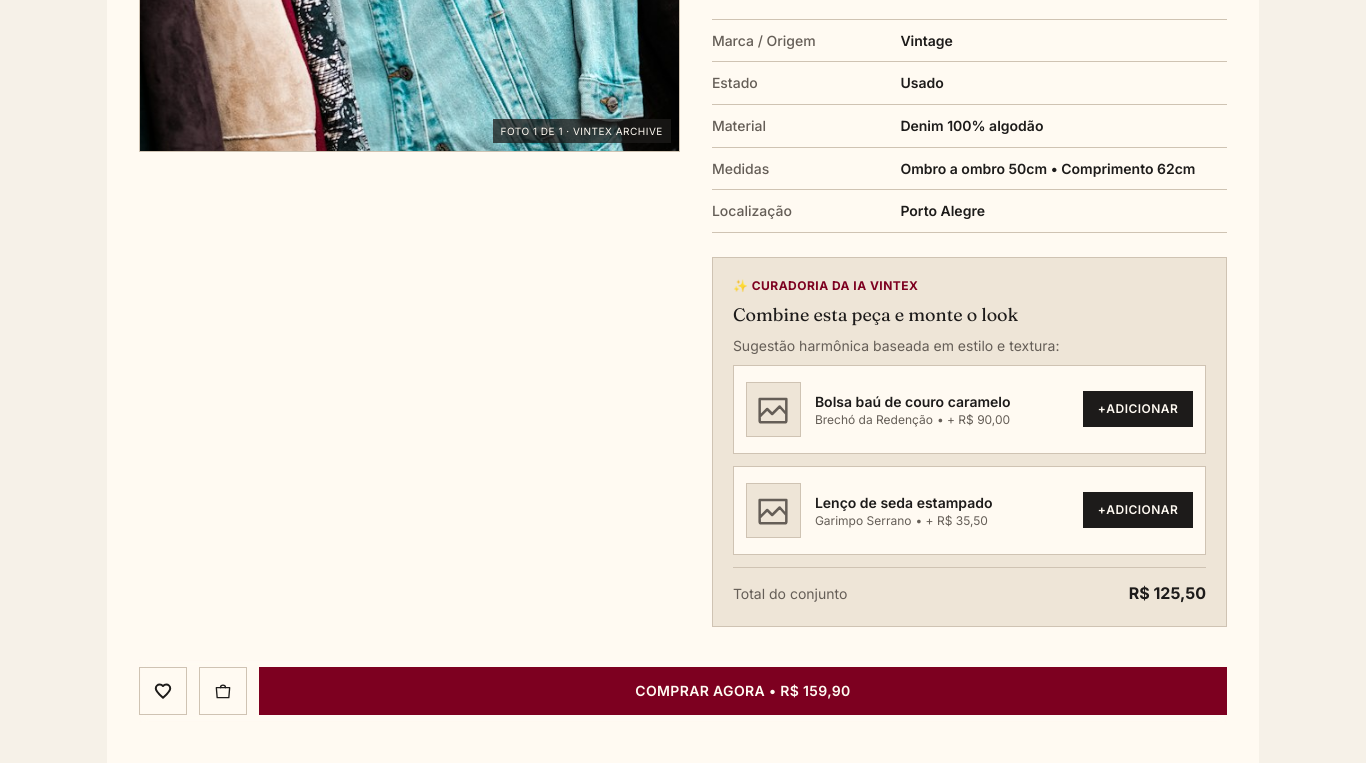
Scenario: <ProductDetail /> › Combine e monte o look (FE-US030-1, #412) › deslogado: "Agora não" cancela e o login depois não adiciona nada
(page scrolled)
Click the button named "Adicionar Bolsa baú de couro caramelo à sacola": (1138, 410) 1083,392 -> 1193,428
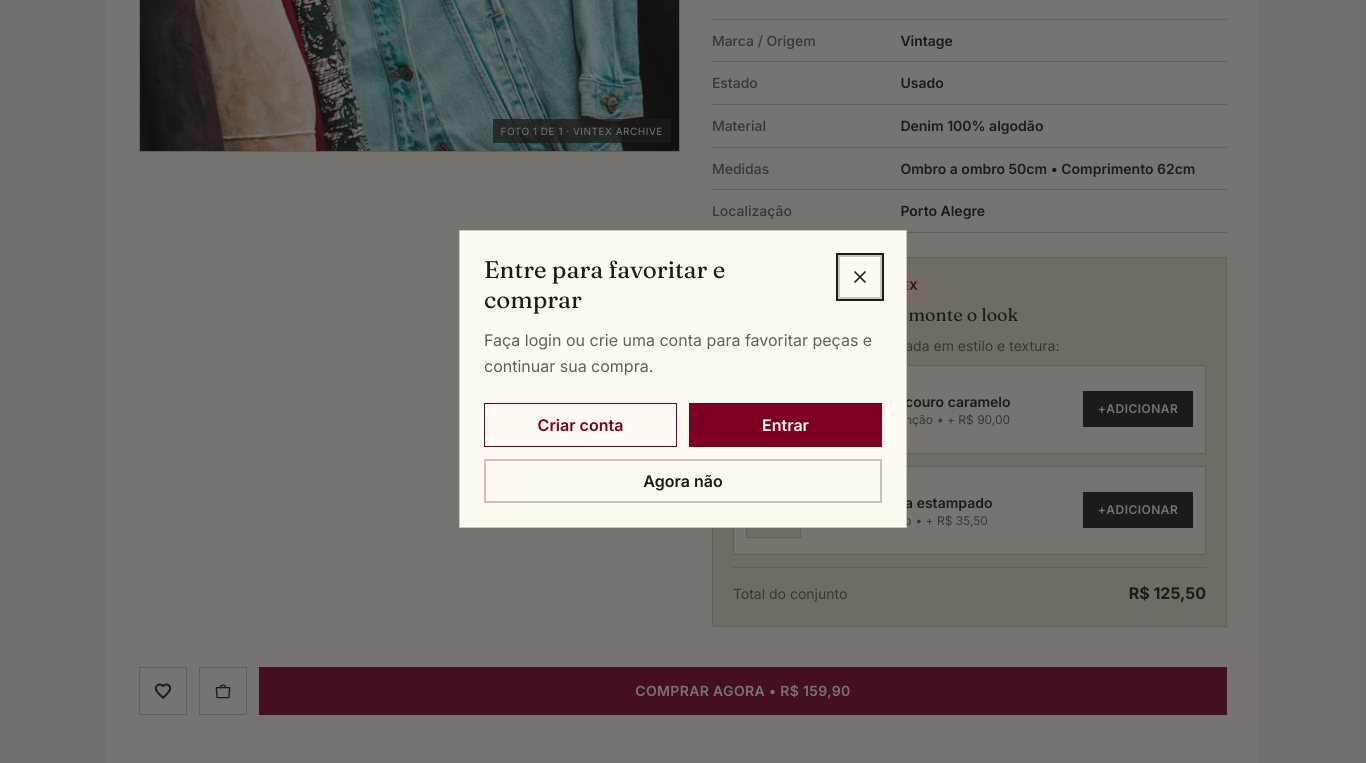
Click the button "Agora não": (683, 481) 484,459 -> 882,503
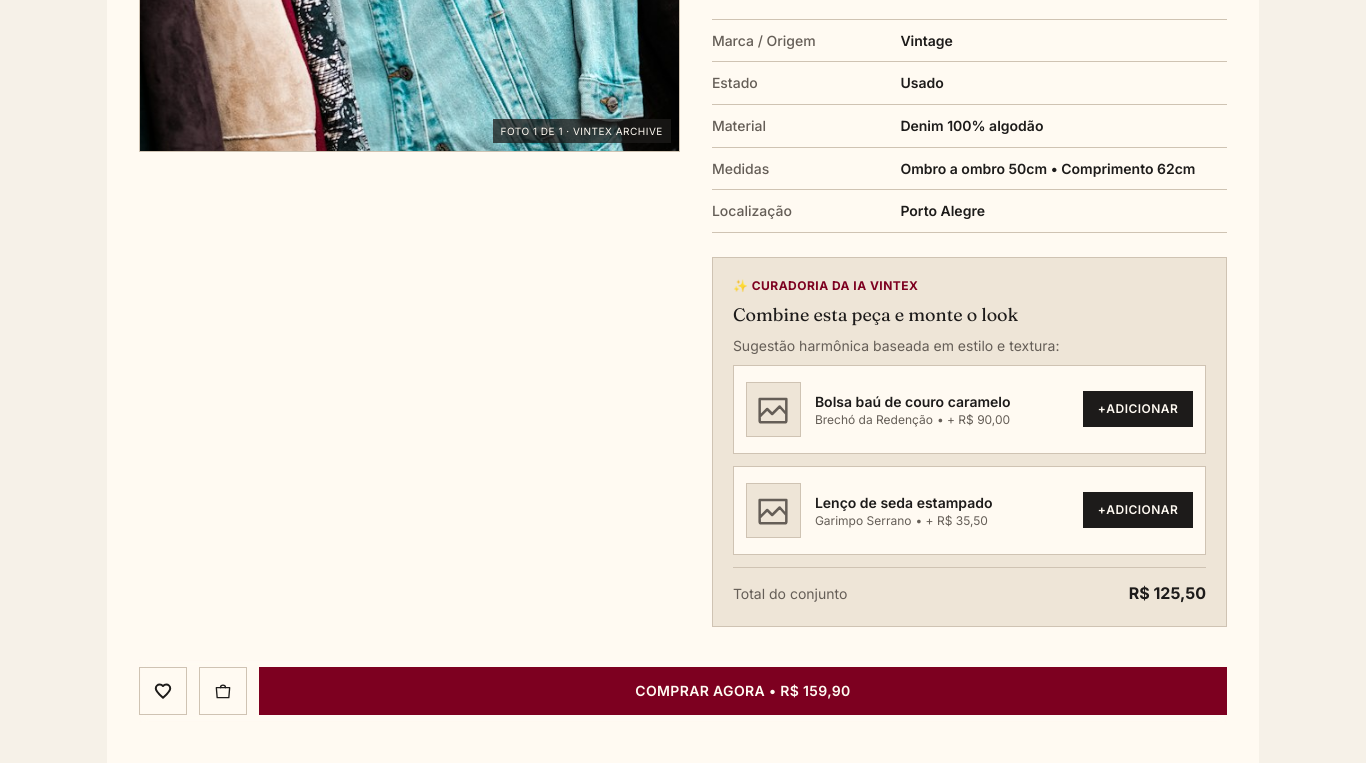
Check: the dialog is gone
